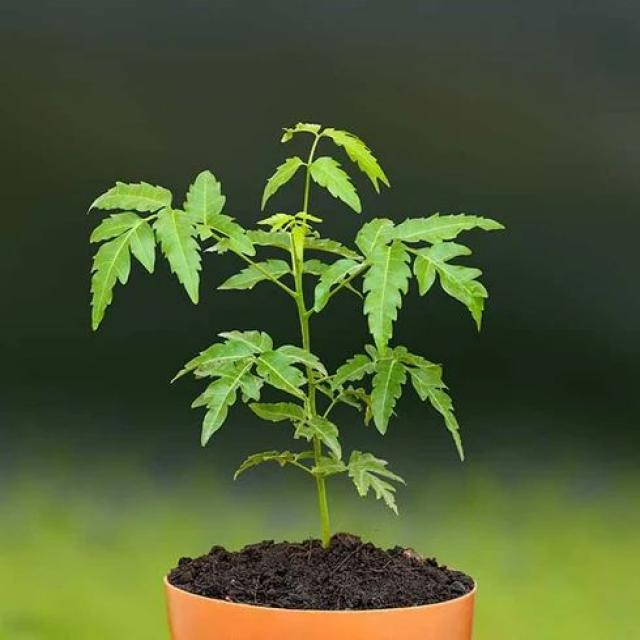Medicinal-Neem: (82, 106, 504, 520)
